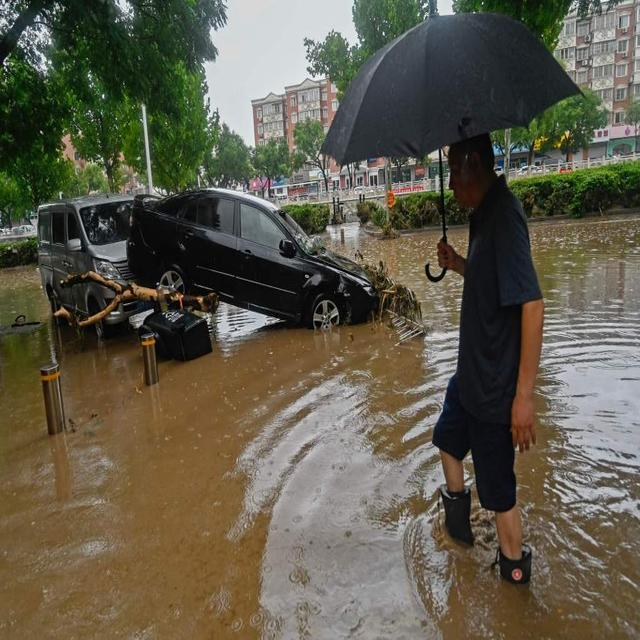Car-RiskLevel3: (129, 185, 398, 337), (23, 189, 200, 330)
Person-RiskLevel2: (402, 128, 570, 589)
